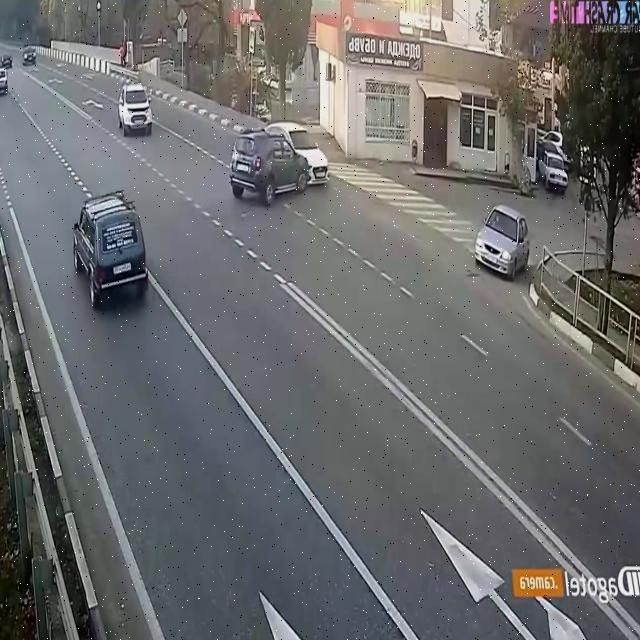accident: (226, 108, 332, 211)
